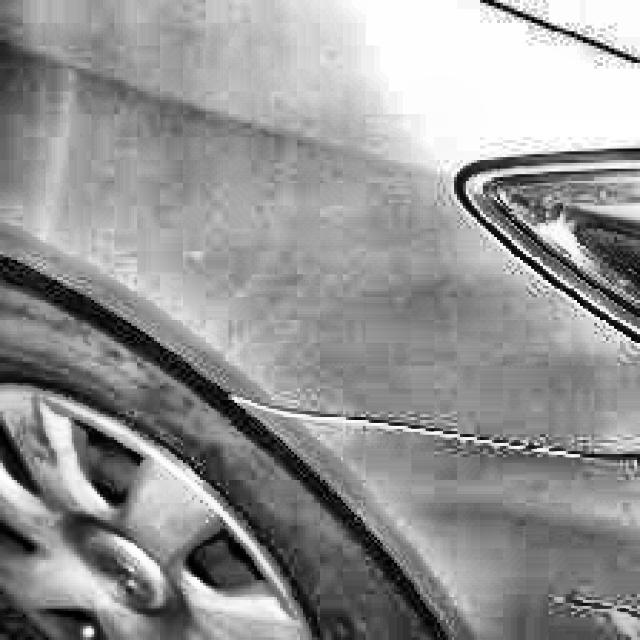bumper_scratch: (238, 379, 636, 481), (568, 577, 640, 630)
